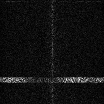wifi: (1, 77, 104, 82)
